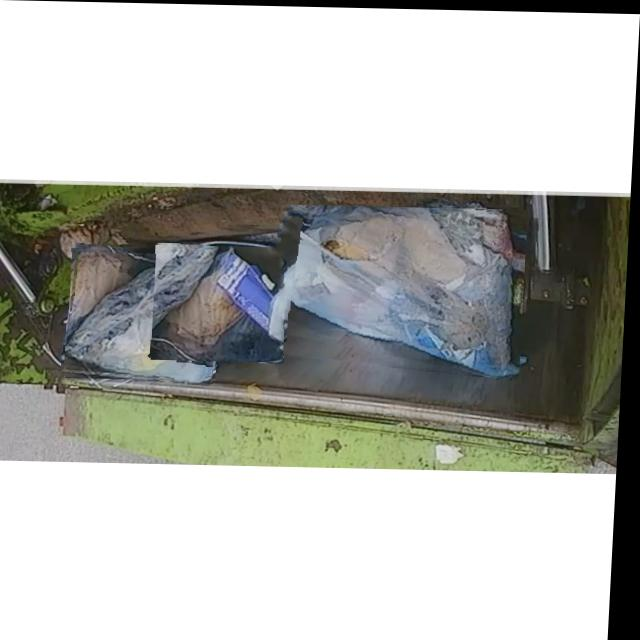other_trashbag: (278, 204, 523, 375), (68, 254, 218, 382), (156, 246, 286, 359)
